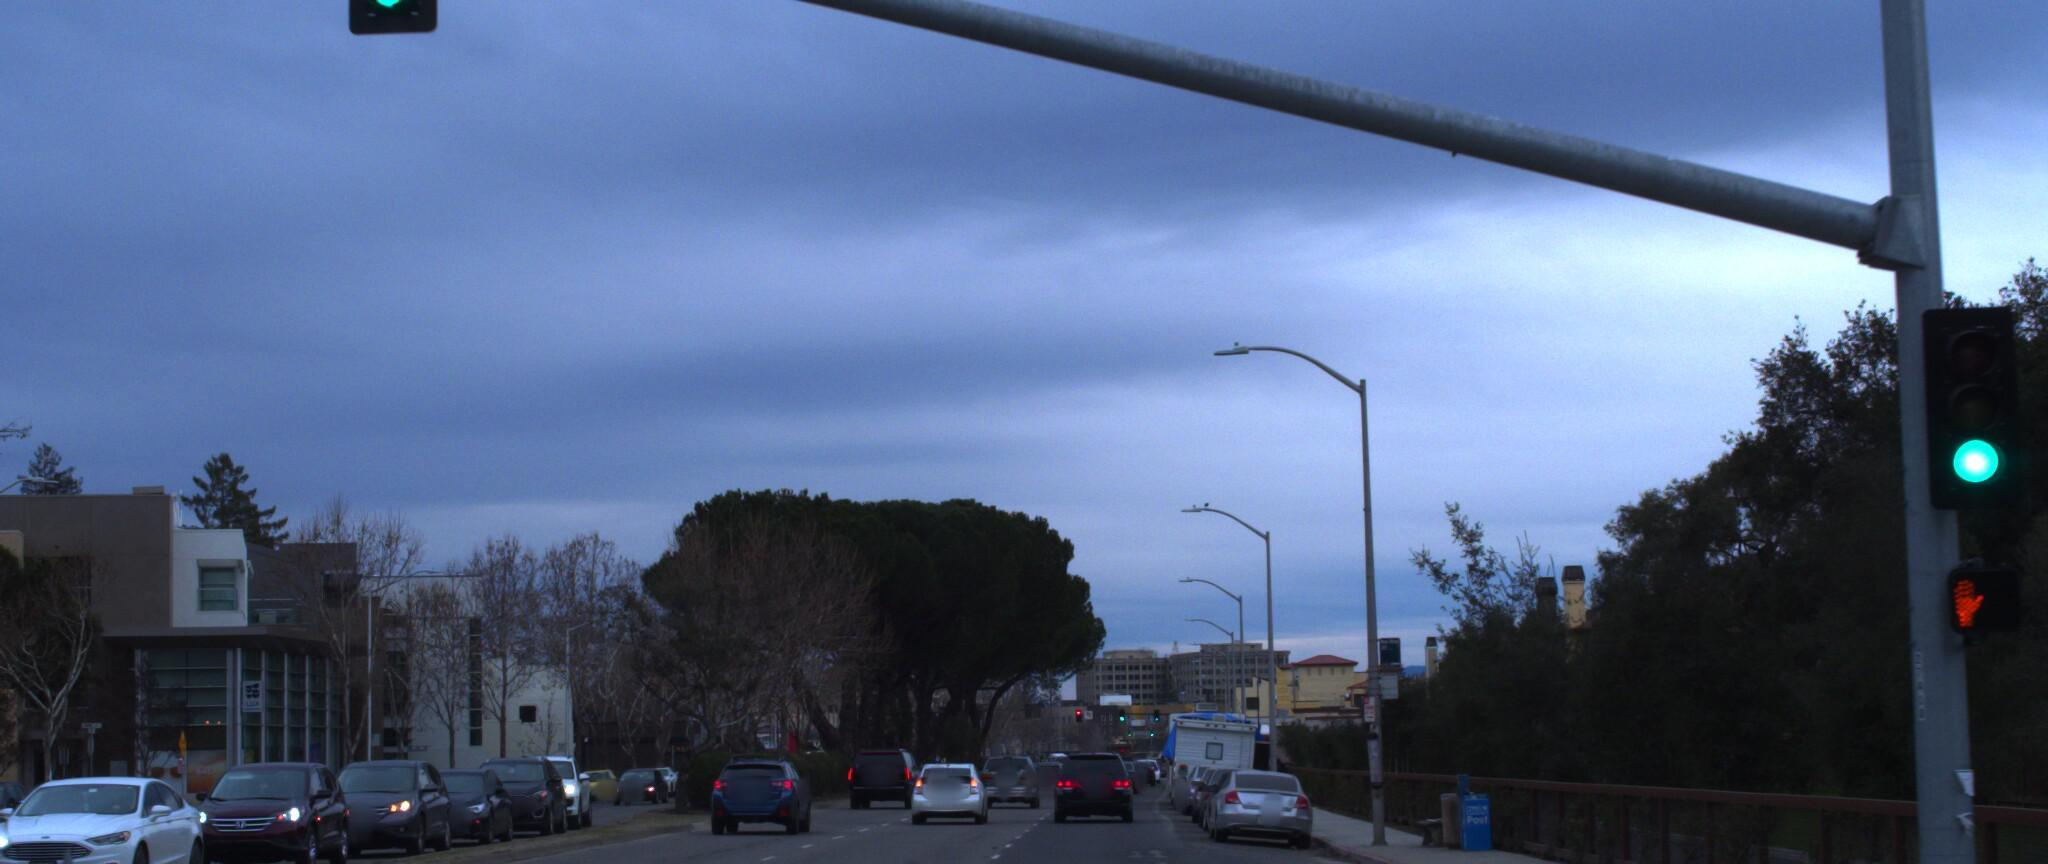car: (0, 760, 225, 864), (182, 745, 362, 864), (303, 743, 462, 850), (389, 753, 526, 837), (458, 739, 573, 826), (703, 743, 812, 824), (1199, 752, 1304, 831), (1048, 743, 1131, 814), (901, 745, 987, 812), (0, 770, 9, 864)
